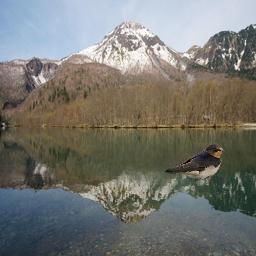Swallow: (164, 143, 225, 182)
